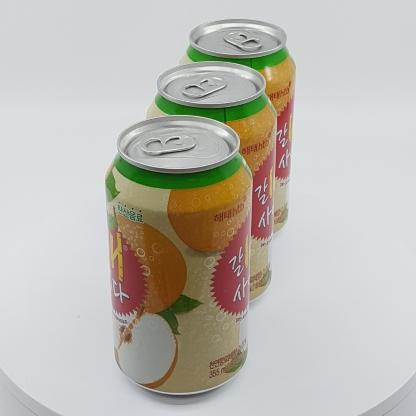-------355ML: (105, 115, 253, 395)
